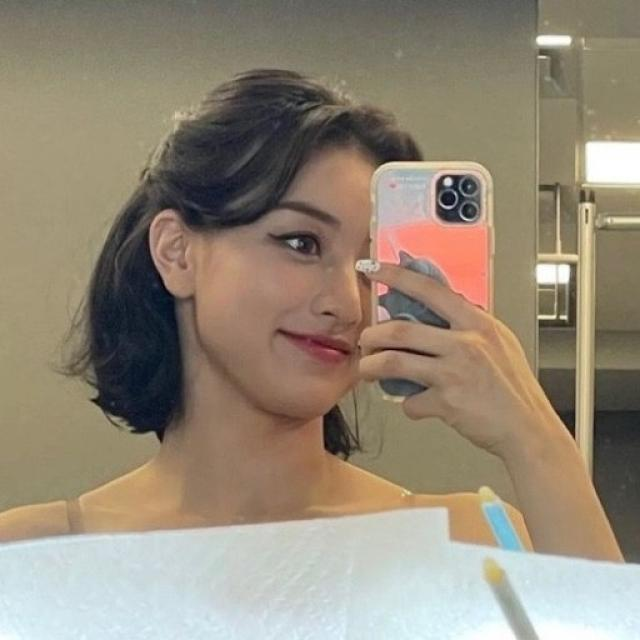phone: (371, 160, 499, 400)
